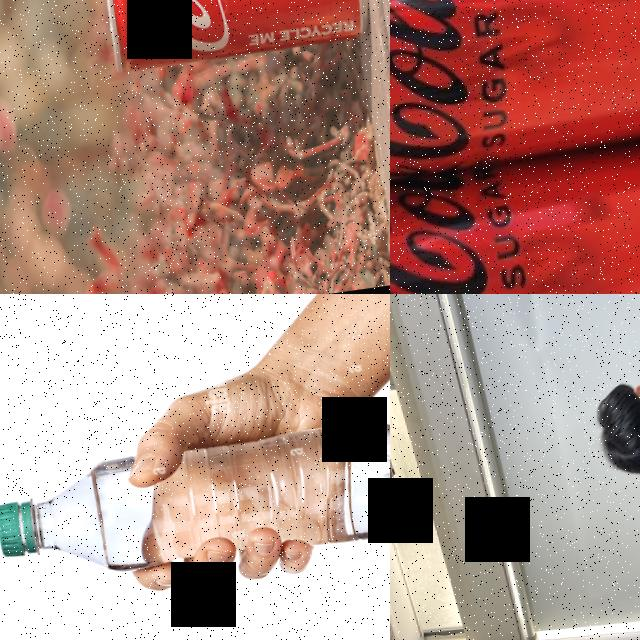bottle: (0, 408, 390, 589)
can: (390, 0, 640, 207), (390, 119, 640, 294), (92, 0, 377, 77)
